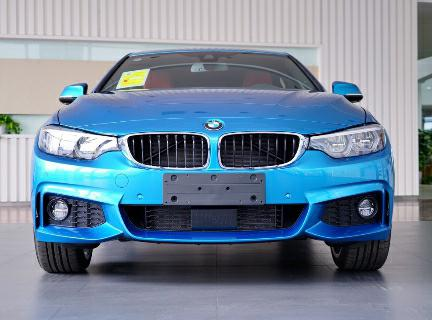宝马-4系: (25, 43, 402, 284)
